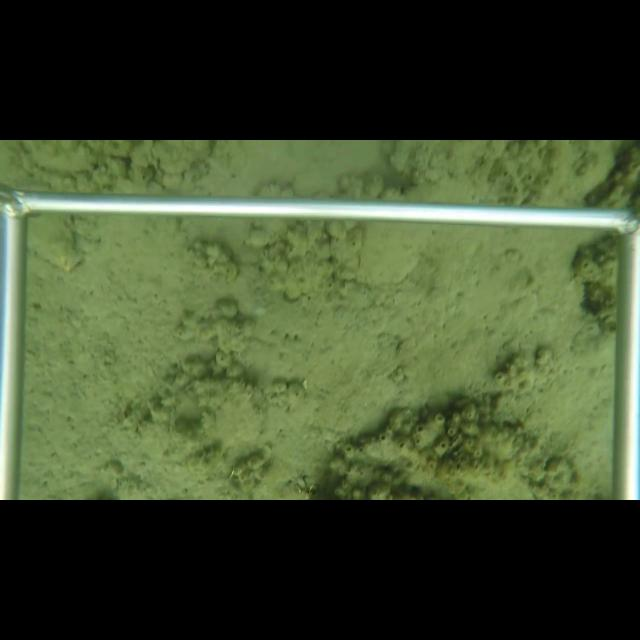Oyster-Closed: (359, 221, 437, 286), (26, 217, 88, 273)
